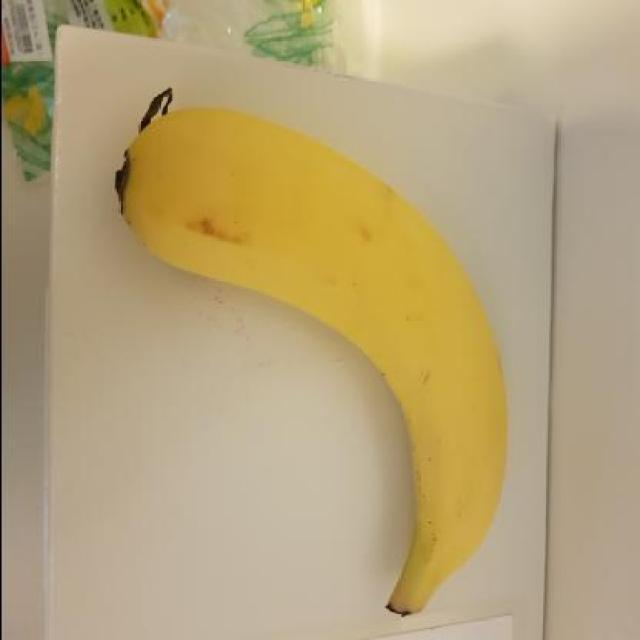Banana: (109, 90, 514, 622)
